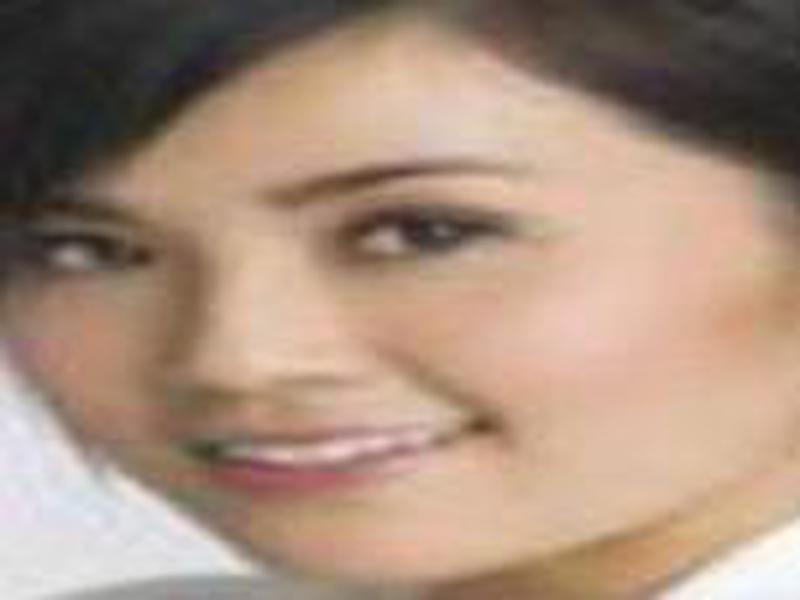without_mask: (11, 50, 800, 582)
